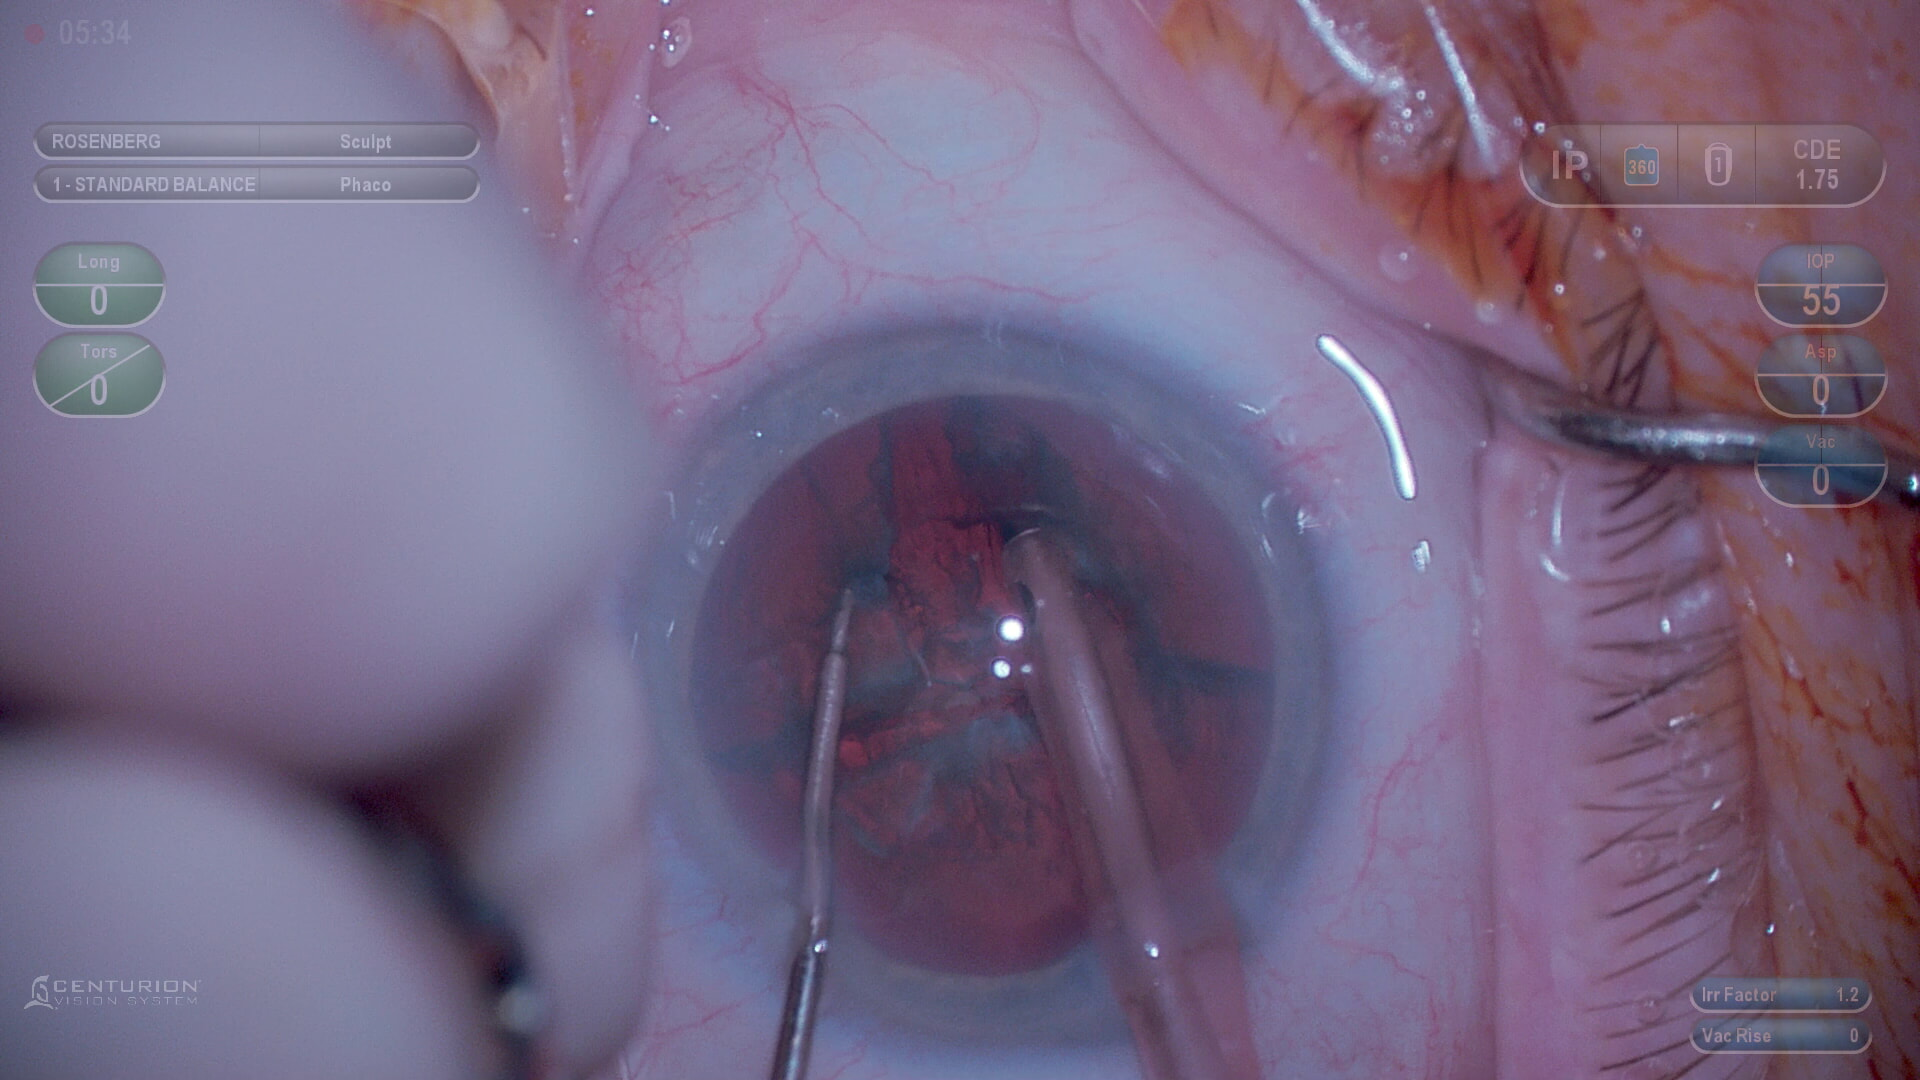iris: (649, 334, 1322, 1031)
pupil: (689, 397, 1283, 973)
